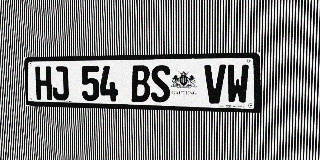4: (99, 66, 118, 101)
5: (81, 66, 100, 101)
B: (131, 65, 150, 102)
H: (35, 66, 52, 100)
J: (51, 66, 69, 100)
S: (151, 65, 170, 103)
V: (204, 64, 226, 104)
W: (226, 64, 249, 104)
